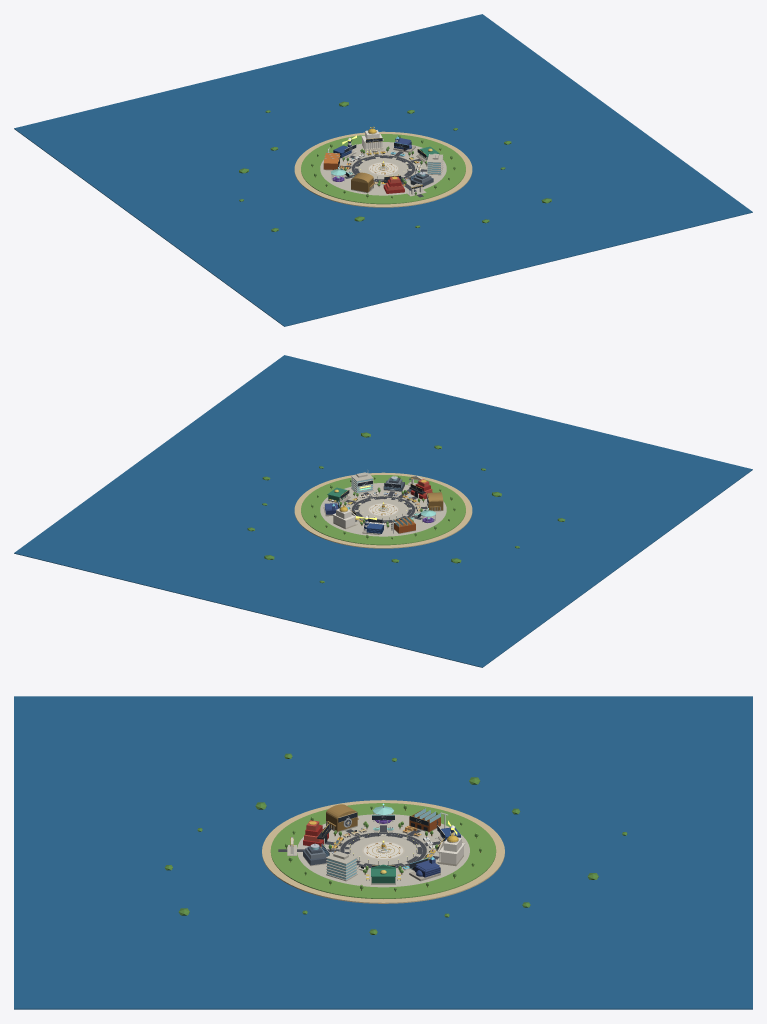
The model's file is cfa-level-1.glb.
The picture shows the model from 3 angles, top to bottom: view 1: azimuth 30°, elevation 25°; view 2: azimuth 150°, elevation 25°; view 3: azimuth 270°, elevation 25°; orthographic projection. The views are drawn at different scales.
Parts seen in each view (by area): view 1: ROOF_CFA_Sea, CFA_Island, CFA_Spurs; view 2: ROOF_CFA_Sea, CFA_Island, CFA_Spurs; view 3: ROOF_CFA_Sea, CFA_Island, CFA_Spurs, BLD_fsa, CFA_RingRoad, BLD_ethics, BLD_fi, CFA_Rocks, CFA_PlazaFloor, BLD_alts, CFA_StreetFurniture, BLD_econ.
Part boxes in pixels (x1,y1,x2,y2): ROOF_CFA_Sea: (14, 14, 752, 326); CFA_Island: (294, 131, 472, 207); CFA_Spurs: (339, 151, 427, 197); ROOF_CFA_Sea: (14, 355, 752, 667); CFA_Island: (294, 472, 472, 548); CFA_Spurs: (345, 482, 427, 521); ROOF_CFA_Sea: (14, 696, 752, 1009); CFA_Island: (262, 800, 504, 903); CFA_Spurs: (278, 825, 440, 870); BLD_fsa: (326, 848, 357, 881); CFA_RingRoad: (339, 832, 427, 868); BLD_ethics: (435, 832, 465, 866); BLD_fi: (326, 804, 358, 832); CFA_Rocks: (164, 753, 627, 934); CFA_PlazaFloor: (362, 841, 404, 859); BLD_alts: (405, 808, 447, 832); CFA_StreetFurniture: (285, 804, 481, 891); BLD_econ: (366, 864, 400, 884).
Bounding box in the file's own units: 760 × 35.12 × 760.
